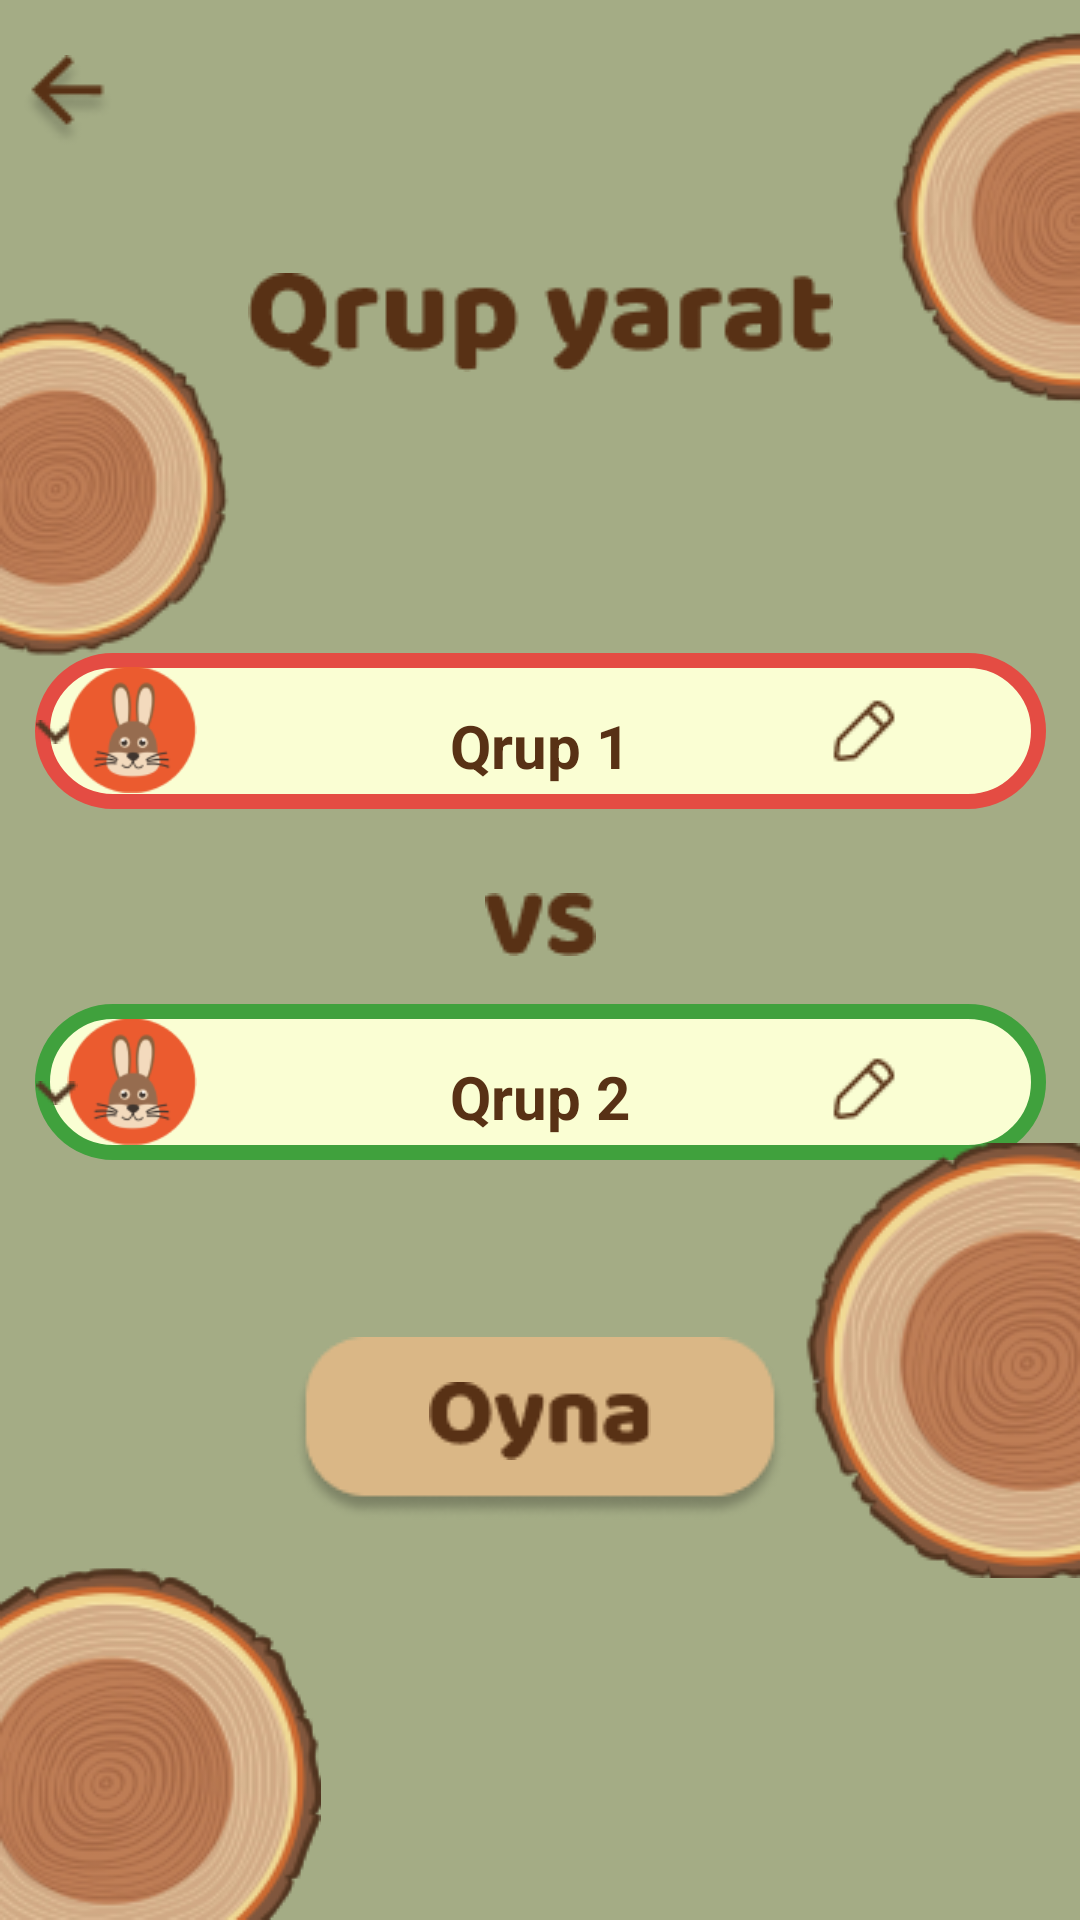

Named icons in this screenshot (1080 × 1920) and their centers, [x,y]:
arrow: [67,91]
dovsan: [132,730], [132,1082]
pen: [864,731], [864,1089]
